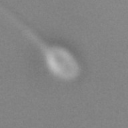normal: (1, 3, 48, 49)
